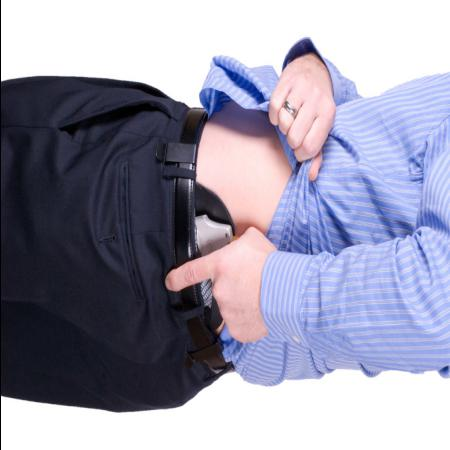Pistol: (179, 198, 247, 318)
